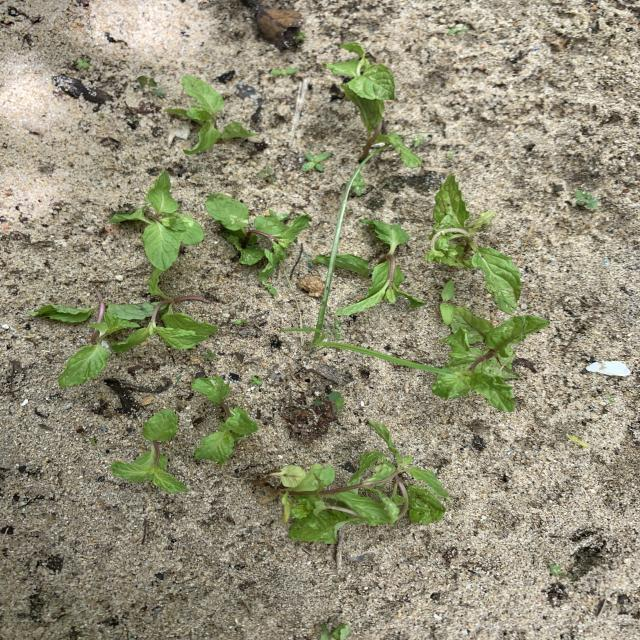crop: (276, 420, 448, 543), (59, 261, 216, 387), (426, 174, 520, 312), (434, 301, 548, 411), (327, 40, 421, 167), (111, 169, 203, 273), (104, 268, 217, 350), (336, 219, 422, 314), (166, 77, 255, 154), (112, 410, 187, 491), (193, 408, 259, 462)
weed: (281, 158, 450, 375), (205, 193, 313, 280), (440, 280, 455, 325), (313, 390, 345, 411), (139, 76, 166, 96), (302, 152, 330, 171), (549, 562, 572, 579), (351, 174, 367, 196), (261, 278, 277, 297), (270, 67, 299, 76), (333, 321, 346, 341), (259, 168, 276, 183), (568, 435, 589, 447), (74, 56, 90, 70), (203, 350, 216, 362), (294, 31, 305, 44), (251, 376, 262, 386), (234, 319, 247, 325)
